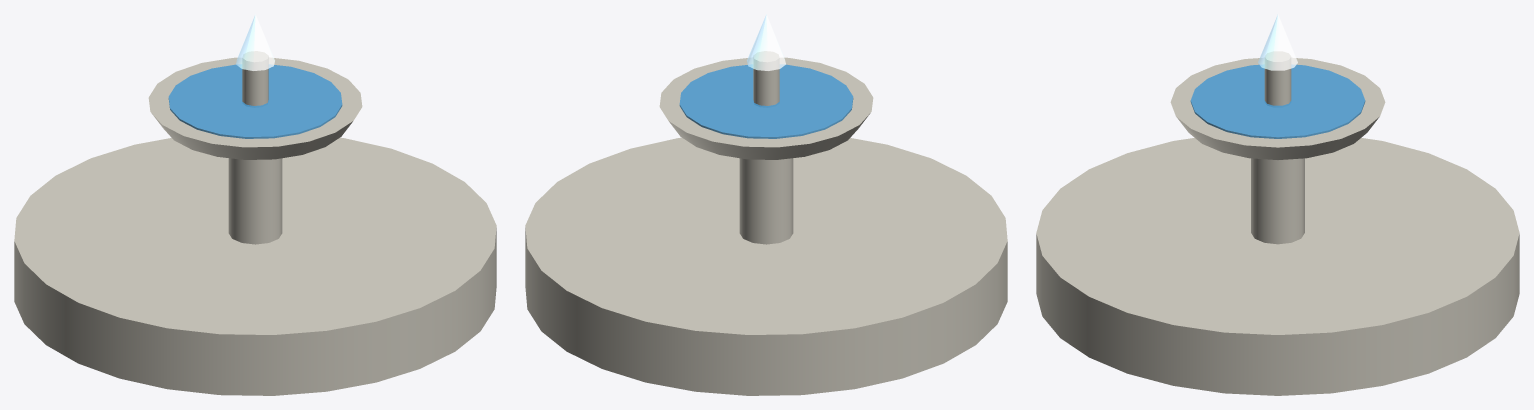
The model's file is fountain.glb.
3 renders of one model, left to right at view 1: azimuth 30°, elevation 25°; view 2: azimuth 150°, elevation 25°; view 3: azimuth 270°, elevation 25°, orthographic.
Visible parts, largest first — view 1: fountain; view 2: fountain; view 3: fountain.
Part boxes in pixels (bbox=[...]): fountain: bbox=[14, 14, 496, 395]; fountain: bbox=[525, 14, 1007, 395]; fountain: bbox=[1036, 14, 1519, 395].
Size of the model in its own units: 3.6 by 2.3 by 3.6.
